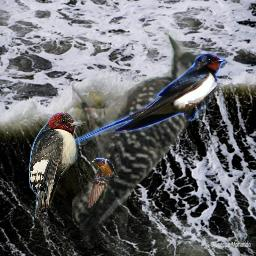Swallow: (71, 53, 226, 145), (87, 157, 119, 208)
Woodpecker: (72, 25, 212, 249), (29, 112, 87, 218)
